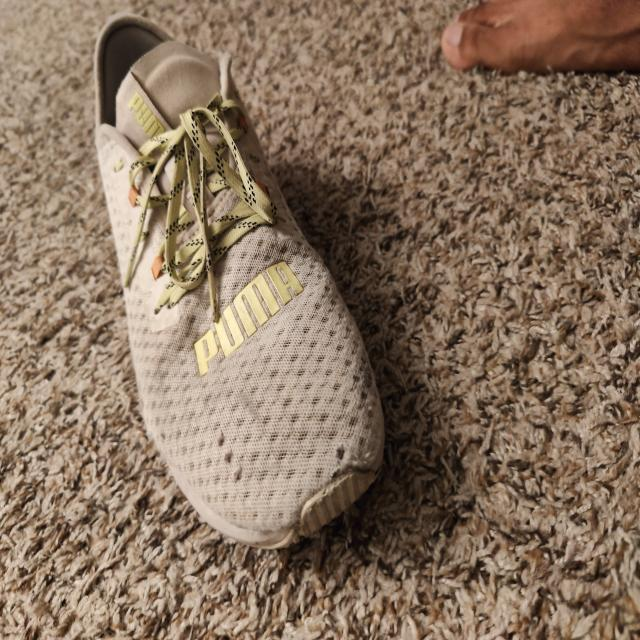white shoes: (96, 26, 374, 530)
